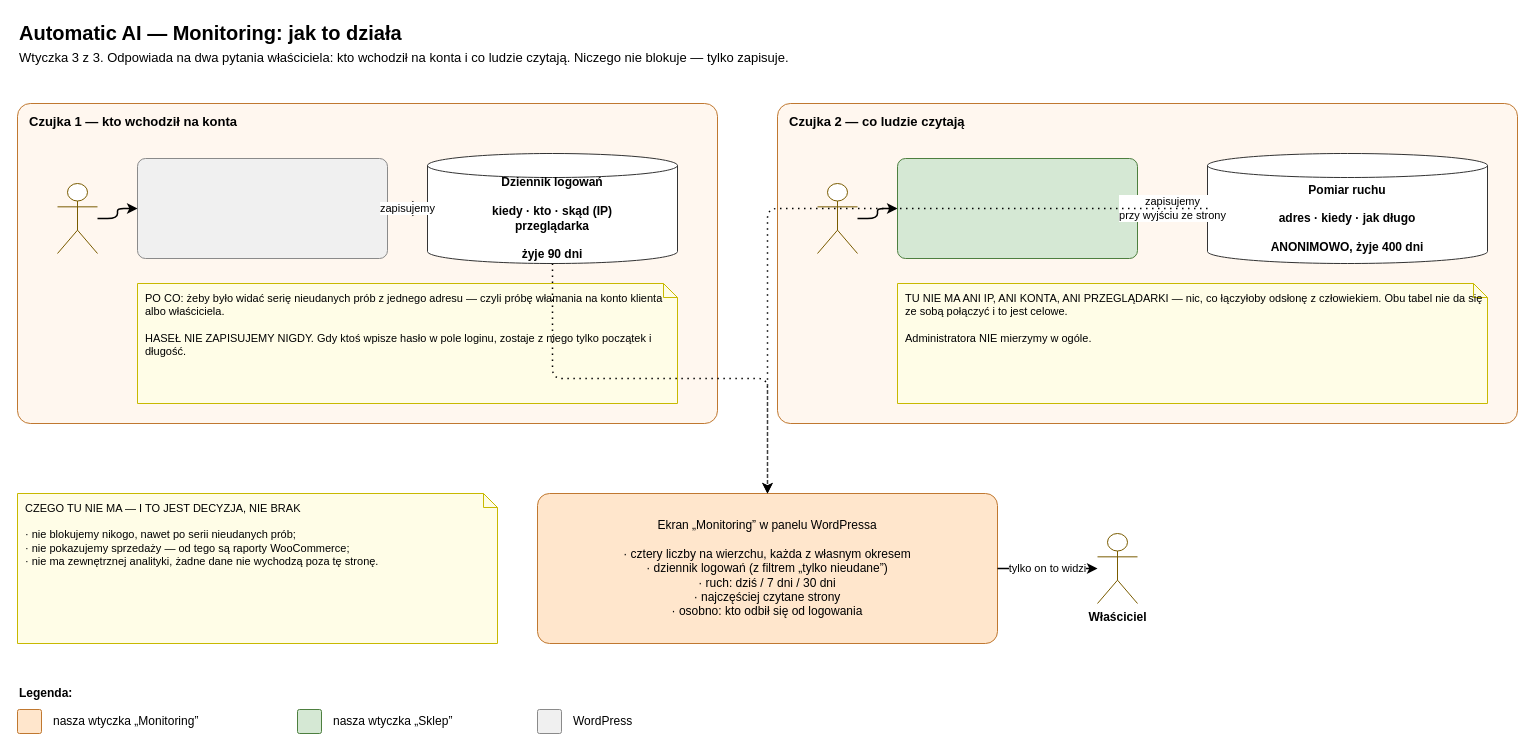
This 1535x751 diagram has some shape labels left out. Each missing label, with the centre of its shape:
"Czyta stronę katalog, strona kursu, lekcja" goes at pixel 1017 208.
"Ktokolwiek" goes at pixel 77 218.
"Loguje się udanie albo nieudanie (także cudza próba)" goes at pixel 262 208.
"Odwiedzający" goes at pixel 837 218.
